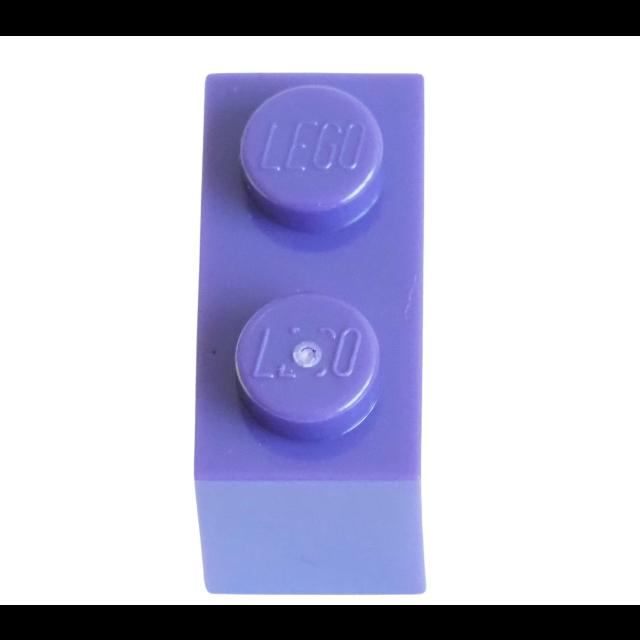1x2: (194, 73, 425, 594)
